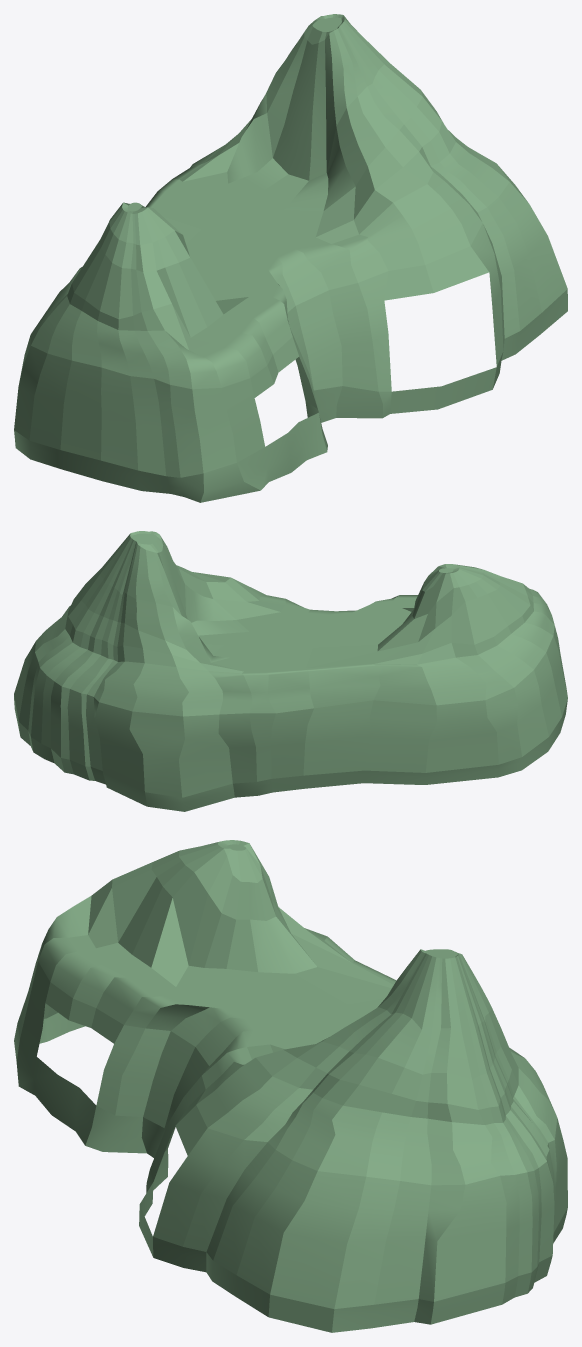
The model's file is Mountain Blockout.fbx.
3 views of the same model, one above another, from view 1: azimuth 30°, elevation 25°; view 2: azimuth 150°, elevation 25°; view 3: azimuth 270°, elevation 25° (orthographic). The views are drawn at different scales.
Parts seen in each view (by area): view 1: Mountain; view 2: Mountain; view 3: Mountain.
Part boxes in pixels (x1,y1,x2,y2): Mountain: (14,14,567,502); Mountain: (14,531,567,811); Mountain: (14,840,567,1332).
Size of the model in its own units: 82.8 by 39.58 by 63.61.
